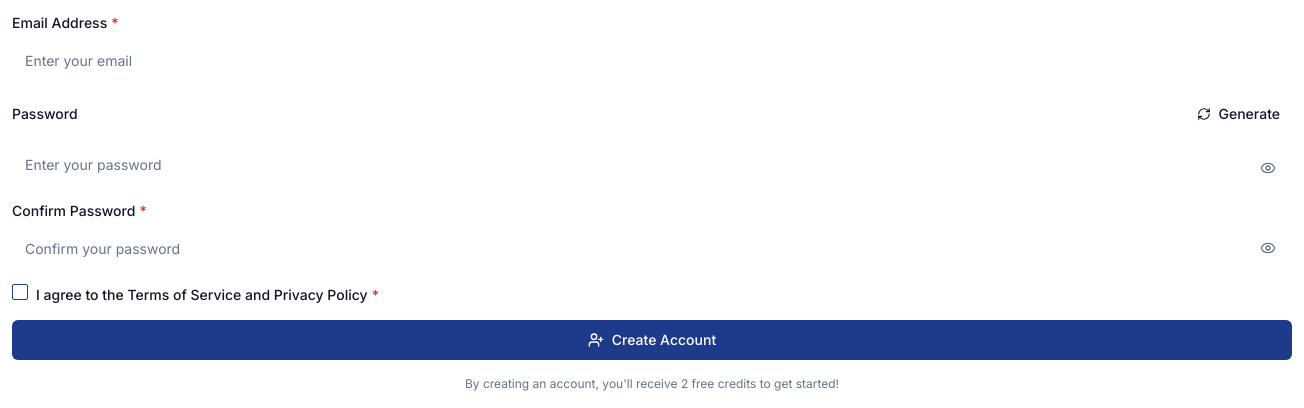
Test: RegisterForm › should generate a password when "Generate" is clicked
Expected: the password field with placeholder "Enter your password" is empty, [12,144,1292,184]
Expected: the password field labelled "Confirm Password*" is empty, [12,228,1292,268]
Click the button "Generate" at (1238, 114), box [1184,96,1292,132]
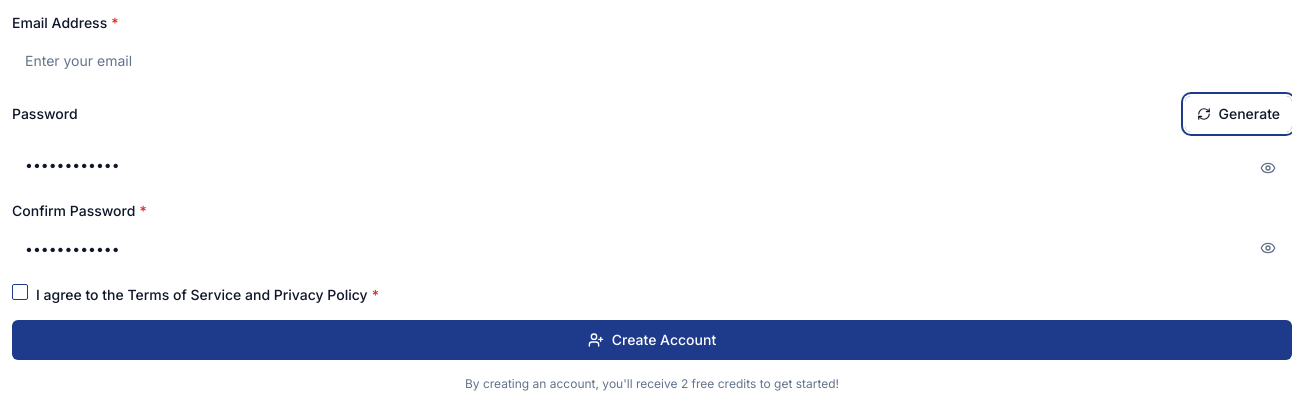
Expected: the password field with placeholder "Enter your password" is not empty, [12,144,1292,184]
